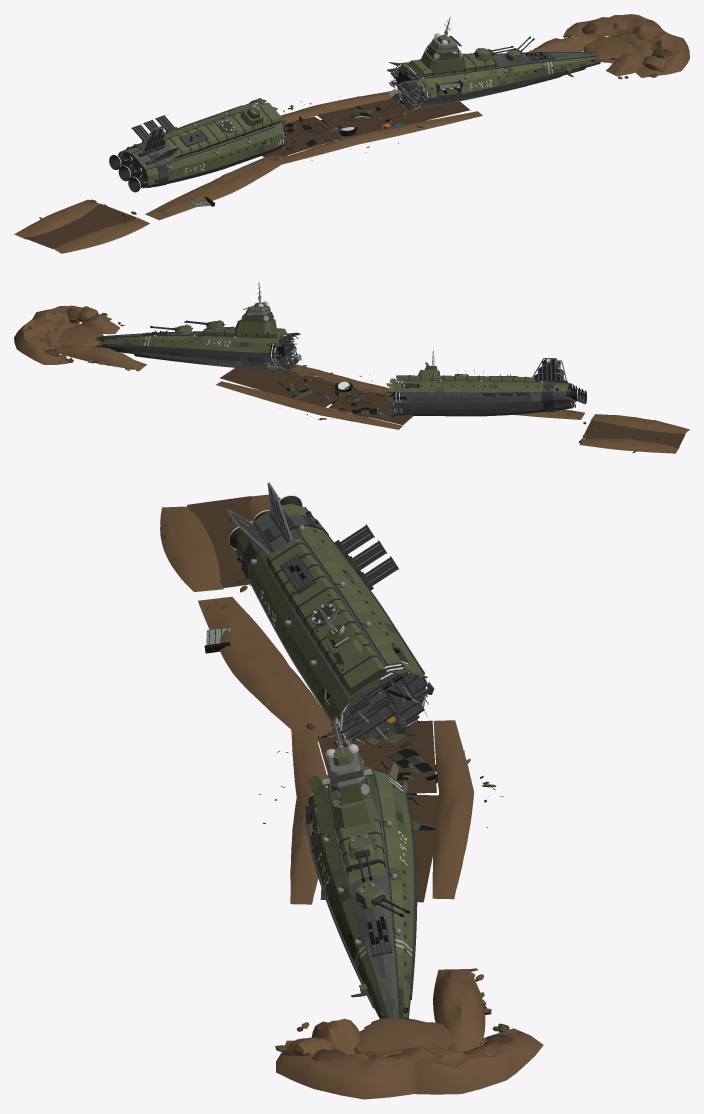
The model's file is frigate-wreck.glb.
3 renders of one model, top to bottom at view 1: azimuth 30°, elevation 25°; view 2: azimuth 150°, elevation 25°; view 3: azimuth 270°, elevation 25°, orthographic. The views are drawn at different scales.
Parts seen in each view (by area): view 1: C0_0_lod0, C0_-1_lod0, C-3_-1_lod0, C1_-1_lod0, C-1_0_lod0, C-2_-1_lod0, C2_0_lod0, C2_-1_lod0, C-4_-1_lod0, C-1_-1_lod0; view 2: C0_0_lod0, C-3_-1_lod0, C0_-1_lod0, C-2_0_lod0, C1_0_lod0, C2_0_lod0, C-1_0_lod0, C-2_-1_lod0, C-4_-1_lod0, C1_-1_lod0, C2_-1_lod0, C-1_-1_lod0; view 3: C0_0_lod0, C-3_-1_lod0, C-2_-1_lod0, C0_-1_lod0, C1_-1_lod0, C-1_0_lod0, C-2_0_lod0, C2_0_lod0, C1_0_lod0, C2_-1_lod0.
Boxes of the visible parts, x1,y1,x2,y2 form: C0_0_lod0: (14, 14, 689, 253); C0_-1_lod0: (389, 17, 500, 127); C-3_-1_lod0: (126, 115, 224, 215); C1_-1_lod0: (474, 46, 573, 96); C-1_0_lod0: (119, 96, 376, 187); C-2_-1_lod0: (198, 99, 312, 176); C2_0_lod0: (563, 22, 641, 65); C2_-1_lod0: (570, 45, 673, 79); C-4_-1_lod0: (39, 149, 145, 235); C-1_-1_lod0: (301, 117, 402, 154); C0_0_lod0: (14, 305, 689, 453); C-3_-1_lod0: (461, 358, 586, 416); C0_-1_lod0: (197, 282, 309, 381); C-2_0_lod0: (361, 379, 462, 423); C1_0_lod0: (107, 326, 211, 371); C2_0_lod0: (38, 324, 128, 364); C-1_0_lod0: (273, 375, 574, 421); C-2_-1_lod0: (389, 350, 468, 416); C-4_-1_lod0: (558, 384, 660, 453); C1_-1_lod0: (130, 320, 224, 335); C2_-1_lod0: (59, 306, 129, 334); C-1_-1_lod0: (303, 372, 384, 398); C0_0_lod0: (160, 494, 543, 1099); C-3_-1_lod0: (204, 482, 397, 659); C-2_-1_lod0: (264, 593, 426, 752); C0_-1_lod0: (293, 718, 404, 896); C1_-1_lod0: (324, 832, 392, 998); C-1_0_lod0: (266, 538, 503, 837); C-2_0_lod0: (336, 608, 464, 761); C2_0_lod0: (354, 975, 524, 1053); C1_0_lod0: (378, 855, 484, 997); C2_-1_lod0: (275, 978, 383, 1061).
Size of what is drawn, in the model's own units: 722 by 104 by 193.
